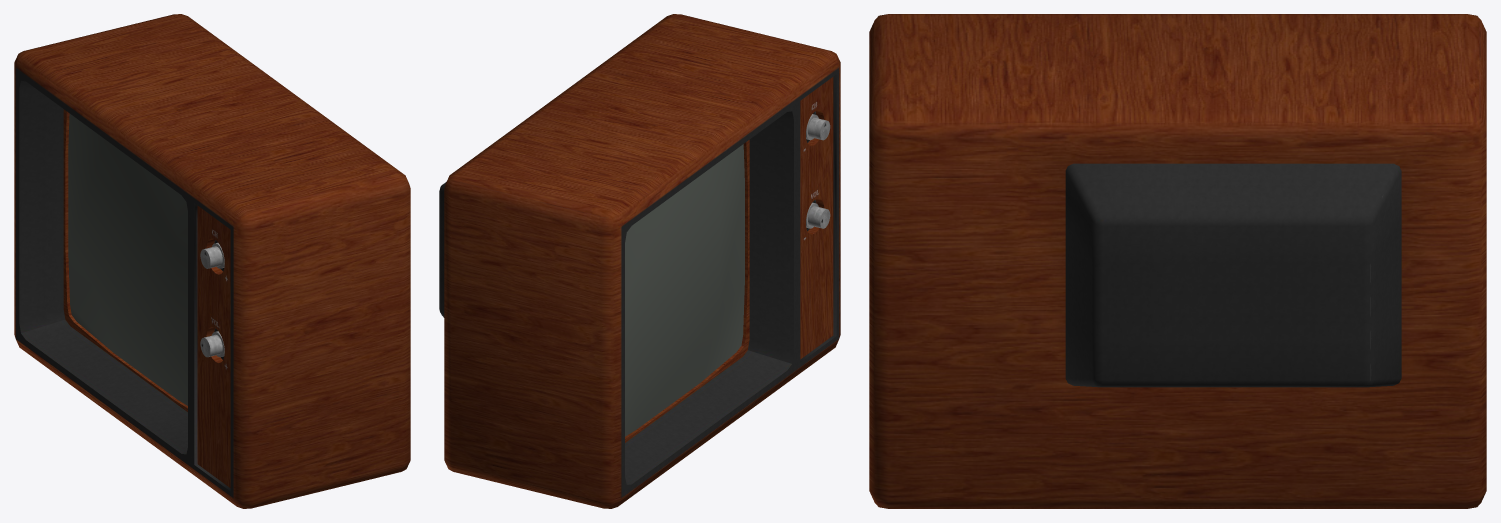
3 renders of one model, left to right at view 1: azimuth 30°, elevation 25°; view 2: azimuth 150°, elevation 25°; view 3: azimuth 270°, elevation 25°, orthographic. The views are drawn at different scales.
Parts seen in each view (by area): view 1: ChamferBox001, kurki; view 2: ChamferBox001, kurki; view 3: ChamferBox001.
Part boxes in pixels (x1=…): ChamferBox001: x1=14, y1=14, x2=410, y2=508; kurki: x1=200, y1=242, x2=224, y2=357; ChamferBox001: x1=439, y1=14, x2=840, y2=508; kurki: x1=806, y1=114, x2=830, y2=228; ChamferBox001: x1=869, y1=14, x2=1486, y2=508.
Bounding box in the file's own units: 1.13 × 1.42 × 2.
1 material, 1 textured.
